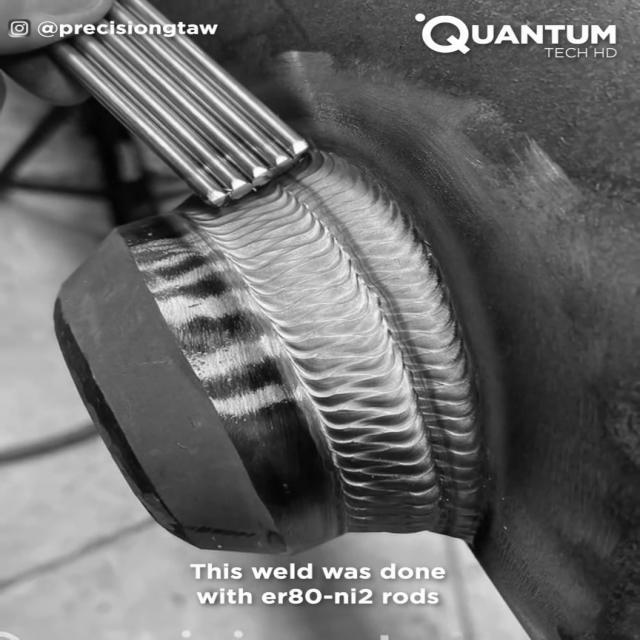Good Weld: (224, 212, 509, 533)
